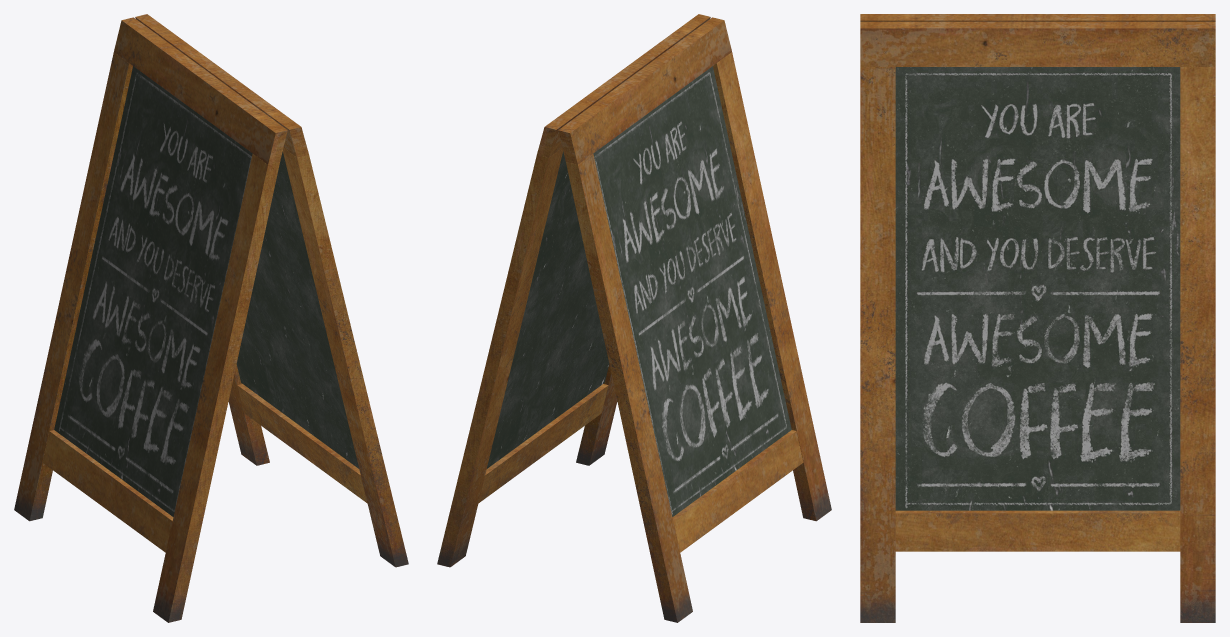
The picture shows the model from 3 angles, left to right: view 1: azimuth 30°, elevation 25°; view 2: azimuth 150°, elevation 25°; view 3: azimuth 270°, elevation 25°; orthographic projection. The views are drawn at different scales.
Parts seen in each view (by area): view 1: Chalkboard_Low, SideBoards_Low, TopBoard_Low, LowBoard_Low; view 2: Chalkboard_Low, SideBoards_Low, TopBoard_Low, LowBoard_Low; view 3: Chalkboard_Low, SideBoards_Low, TopBoard_Low, LowBoard_Low.
Part boxes in pixels (x1,y1,x2,y2): Chalkboard_Low: (54, 66, 358, 516); SideBoards_Low: (14, 52, 408, 622); TopBoard_Low: (114, 14, 308, 164); LowBoard_Low: (42, 384, 367, 552); Chalkboard_Low: (487, 66, 791, 516); SideBoards_Low: (437, 52, 831, 622); TopBoard_Low: (537, 14, 731, 164); LowBoard_Low: (478, 384, 803, 552); Chalkboard_Low: (895, 67, 1180, 510); SideBoards_Low: (860, 67, 1215, 622); TopBoard_Low: (860, 14, 1215, 66); LowBoard_Low: (895, 510, 1180, 551).
Bounding box in the file's own units: 1.09 × 2 × 1.21.
1 material, 1 textured.
